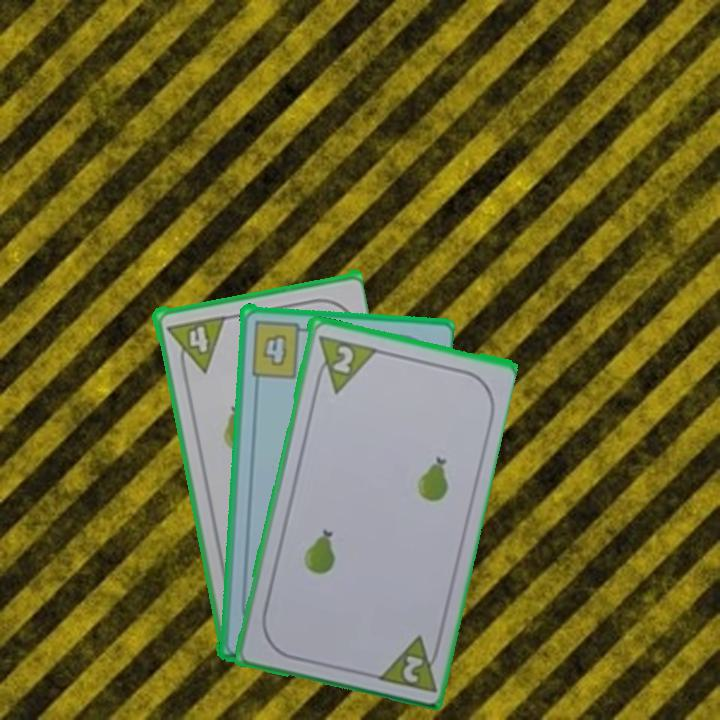2p: (372, 631, 444, 695), (329, 341, 356, 376)
4b: (247, 316, 312, 380)
4p: (162, 312, 227, 377)
